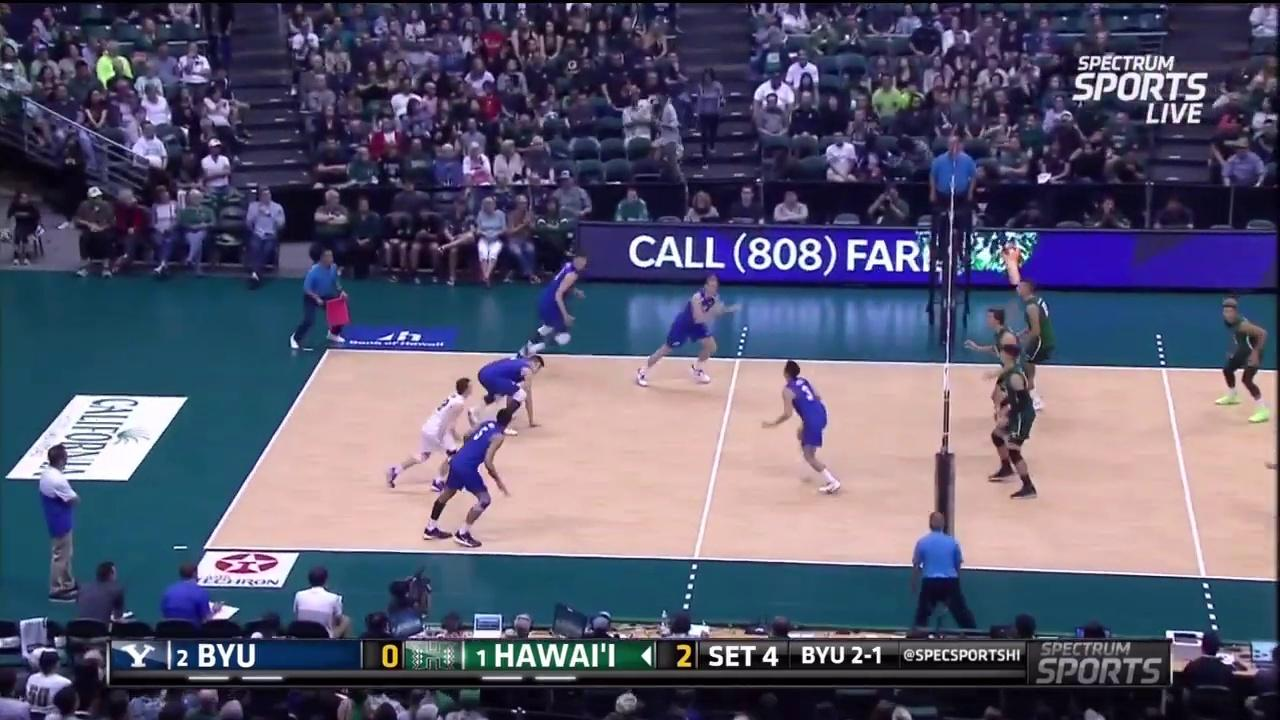player: (426, 406, 518, 549), (636, 276, 725, 387), (767, 364, 842, 493), (393, 369, 469, 493), (972, 304, 1035, 449), (517, 248, 589, 360), (987, 354, 1041, 493), (1218, 296, 1272, 421), (1010, 274, 1056, 409), (471, 352, 544, 435)
refree: (906, 515, 976, 632), (293, 246, 349, 351), (932, 131, 979, 246)
